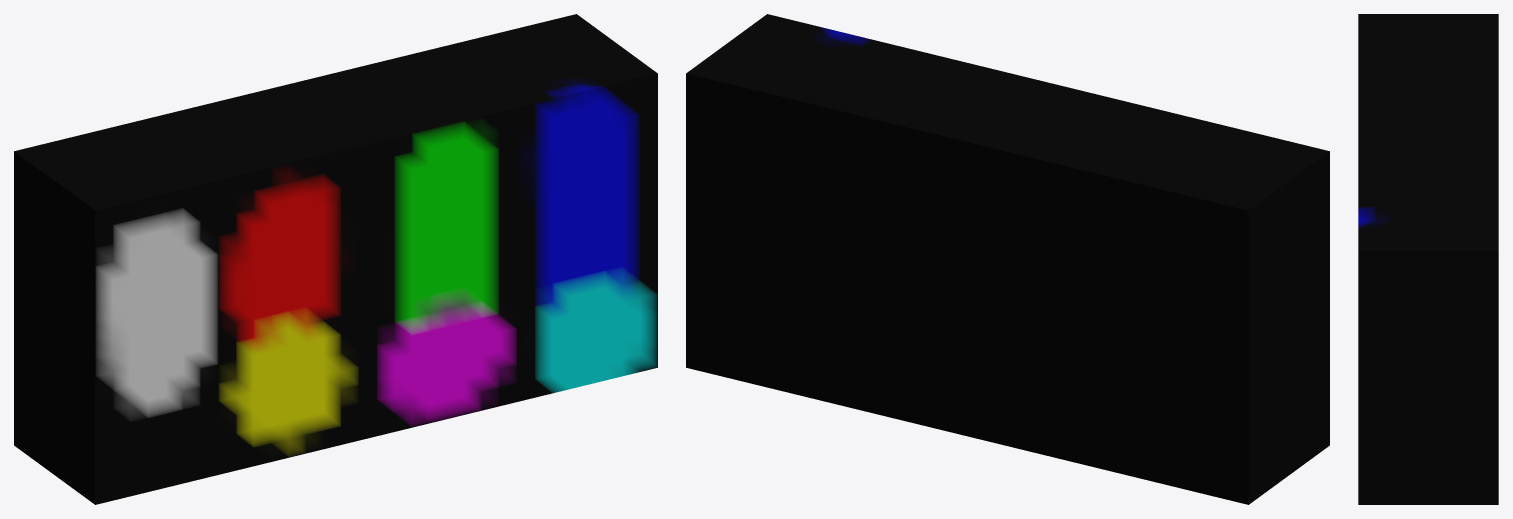
The model's file is BricksBlock.fbx.
3 views of the same model, side by side, from view 1: azimuth 30°, elevation 25°; view 2: azimuth 150°, elevation 25°; view 3: azimuth 270°, elevation 25° (orthographic). The views are drawn at different scales.
Visible parts, largest first — view 1: Cube_lp; view 2: Cube_lp; view 3: Cube_lp.
Boxes of the visible parts, x1,y1,x2,y2 form: Cube_lp: [14, 14, 657, 504]; Cube_lp: [686, 14, 1329, 504]; Cube_lp: [1358, 14, 1498, 504].
Bounding box in the file's own units: 4 × 1 × 2.
